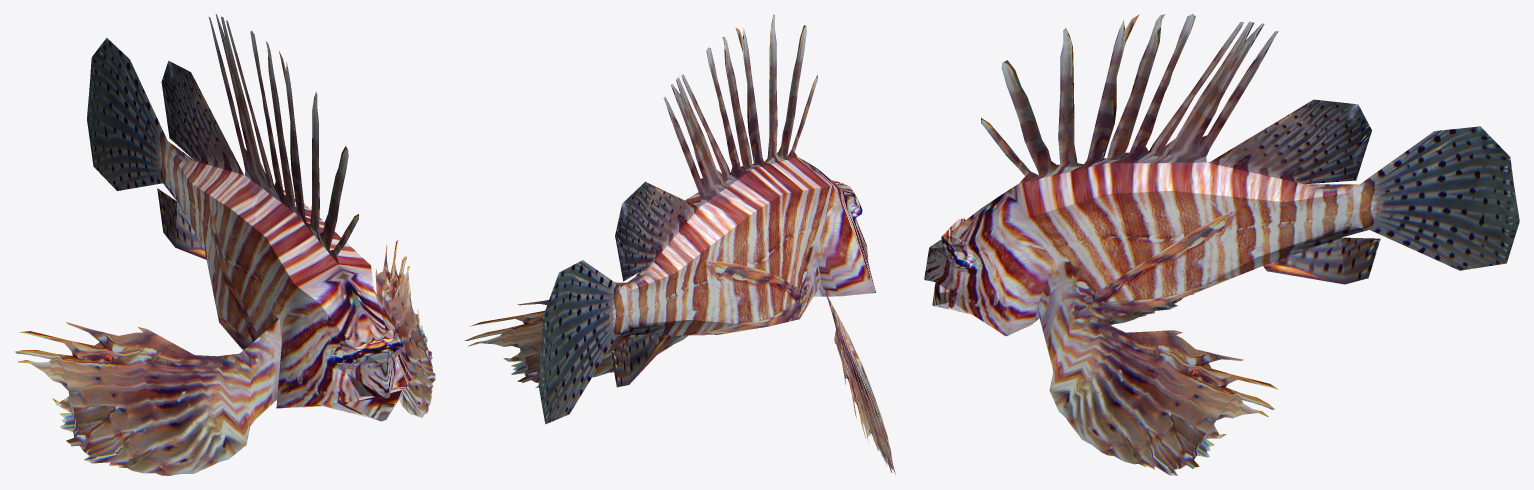
Rendered from lionfishclean.fbx.
The picture shows the model from 3 angles, left to right: view 1: azimuth 30°, elevation 25°; view 2: azimuth 150°, elevation 25°; view 3: azimuth 270°, elevation 25°; orthographic projection. The views are drawn at different scales.
Parts seen in each view (by area): view 1: tropicalFishMaya2008:lionfishclean2; view 2: tropicalFishMaya2008:lionfishclean2; view 3: tropicalFishMaya2008:lionfishclean2.
Boxes of the visible parts, x1,y1,x2,y2 form: tropicalFishMaya2008:lionfishclean2: (14,14,435,475); tropicalFishMaya2008:lionfishclean2: (464,14,895,474); tropicalFishMaya2008:lionfishclean2: (924,14,1519,475).
Size of the model in its own units: 26.9 by 25.04 by 35.71.
